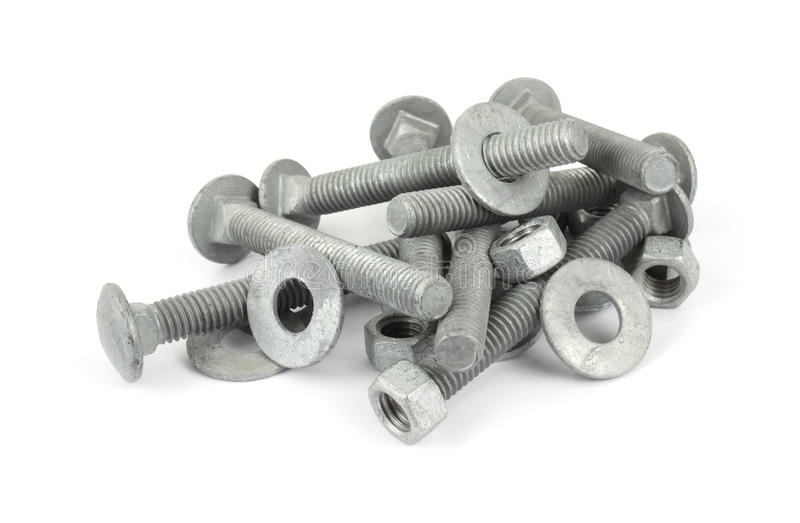carriage bolt: (88, 229, 434, 388), (183, 161, 457, 328)
flat washer: (530, 251, 663, 383), (241, 239, 349, 378)
hex nut: (480, 206, 571, 289), (617, 232, 708, 315)
loaded bolt: (234, 97, 595, 234)
